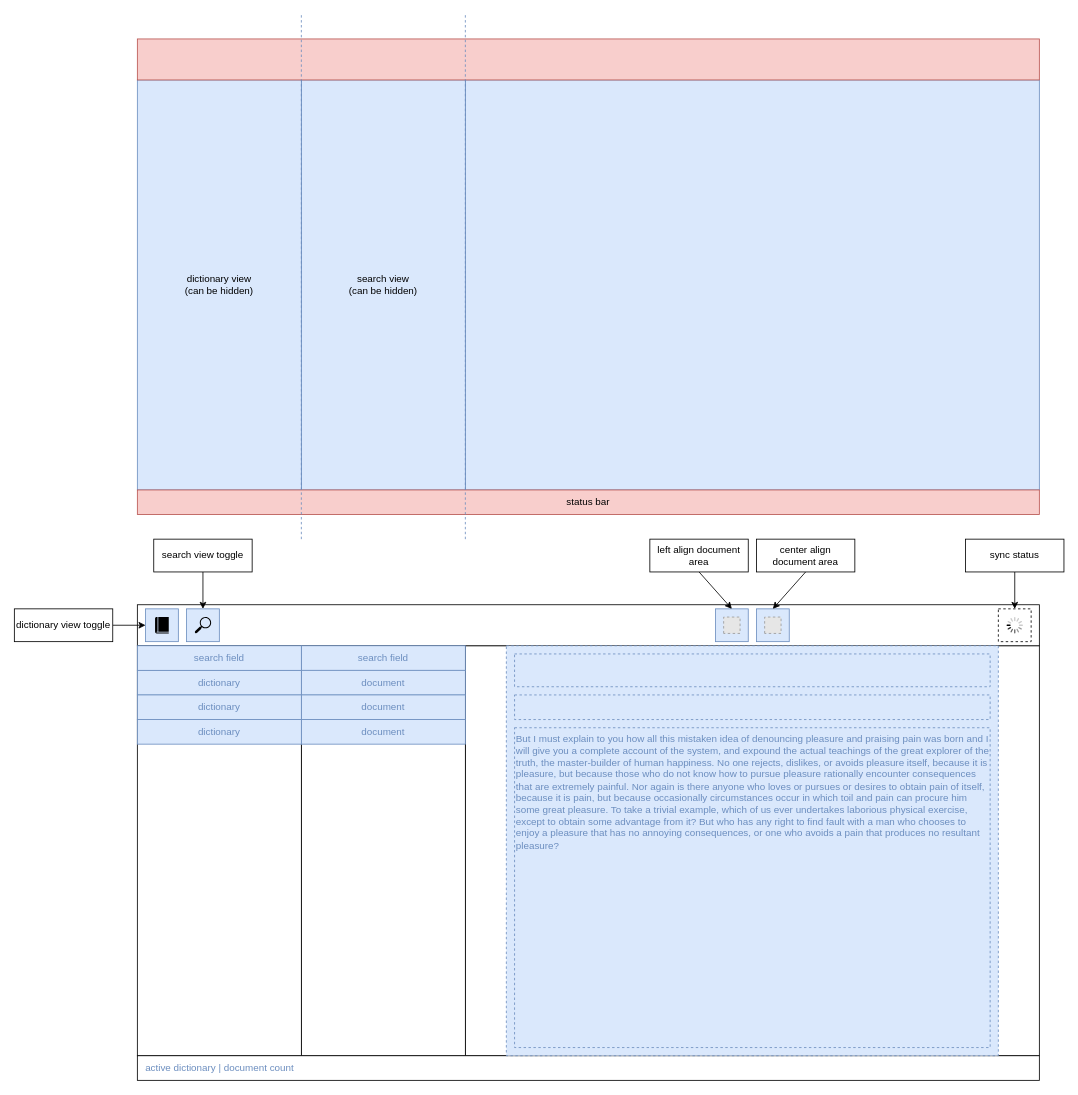
Image size: 1078x1095. Some labels were removed from this diagram. Grey dashed boxes stand in for pictures. The centre of each missing label's shape, as x and y in pixels:
"Abbreviation" belongs at (x=752, y=707).
"document view" belongs at (x=752, y=284).
"Title" belongs at (x=752, y=670).
"toolbar" belongs at (x=588, y=59).
